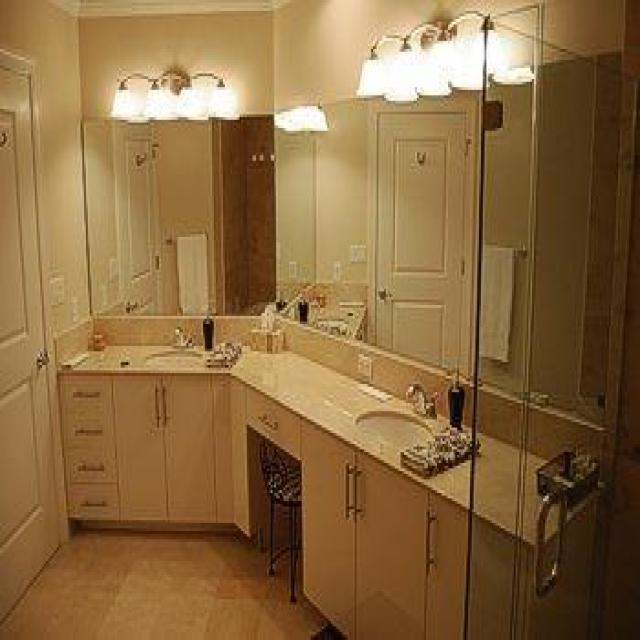chair: (258, 436, 302, 602)
cupboard: (112, 370, 216, 531)
indoor-plant: (9, 0, 635, 635)
pots: (446, 381, 465, 428)
shelf: (300, 417, 428, 637)
